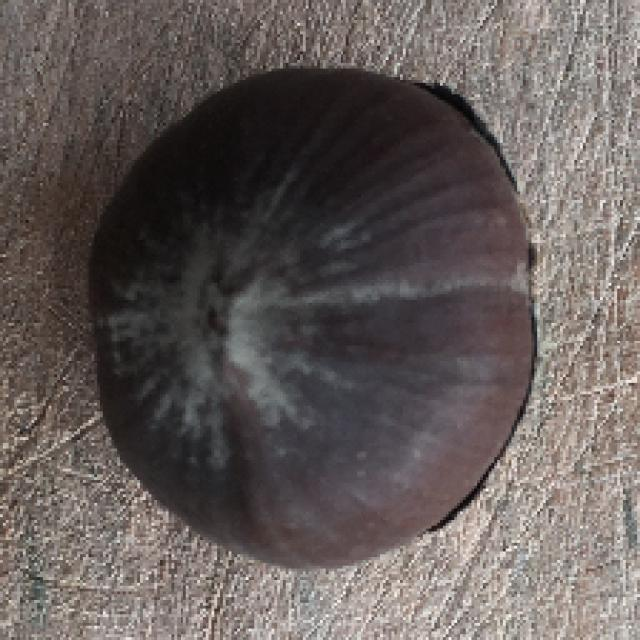DamagedHazelnut: (88, 69, 546, 576)
